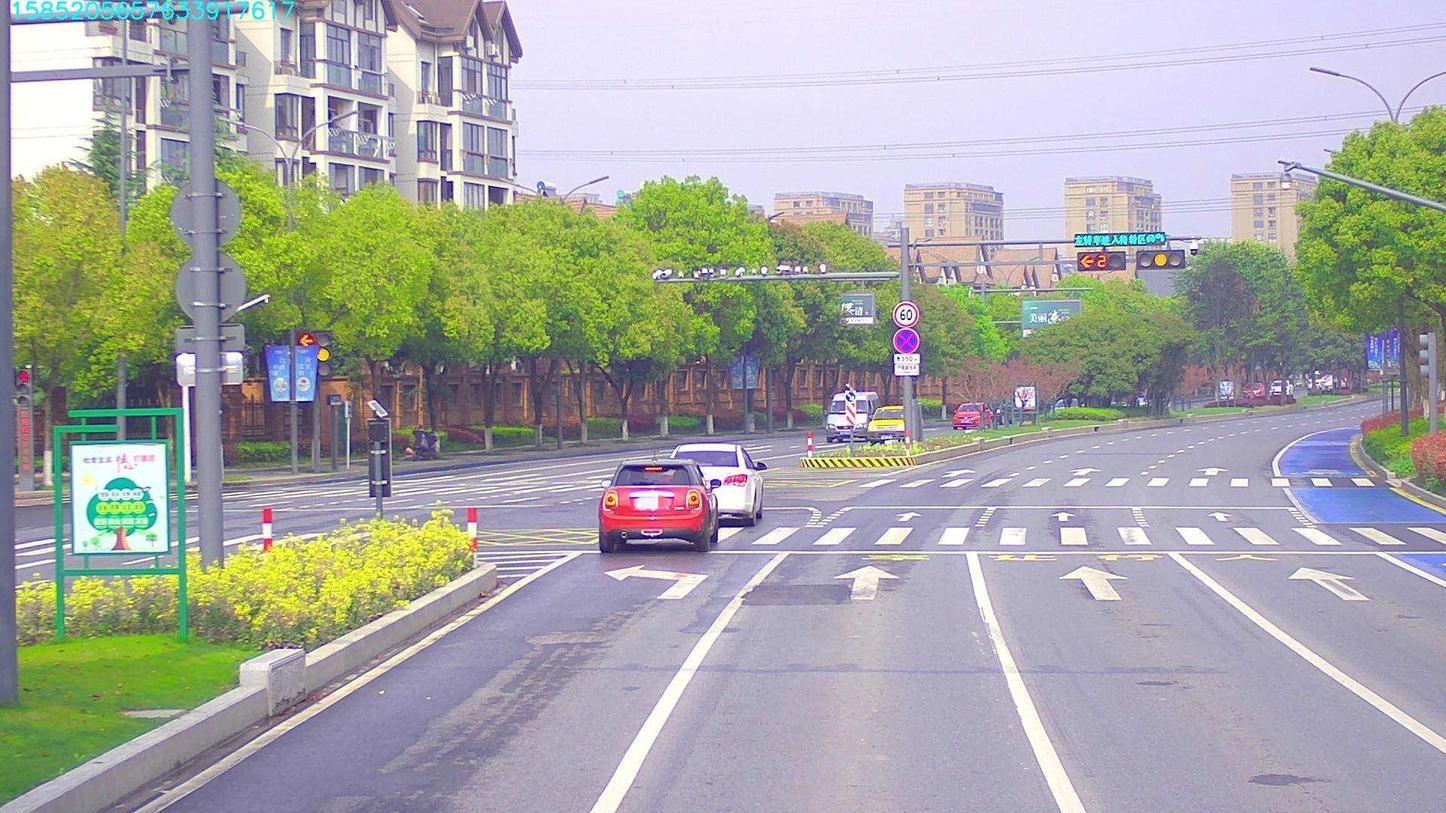red: (1081, 252, 1129, 273)
wait_on: (1075, 233, 1165, 242)
yellow: (1139, 252, 1182, 269)
